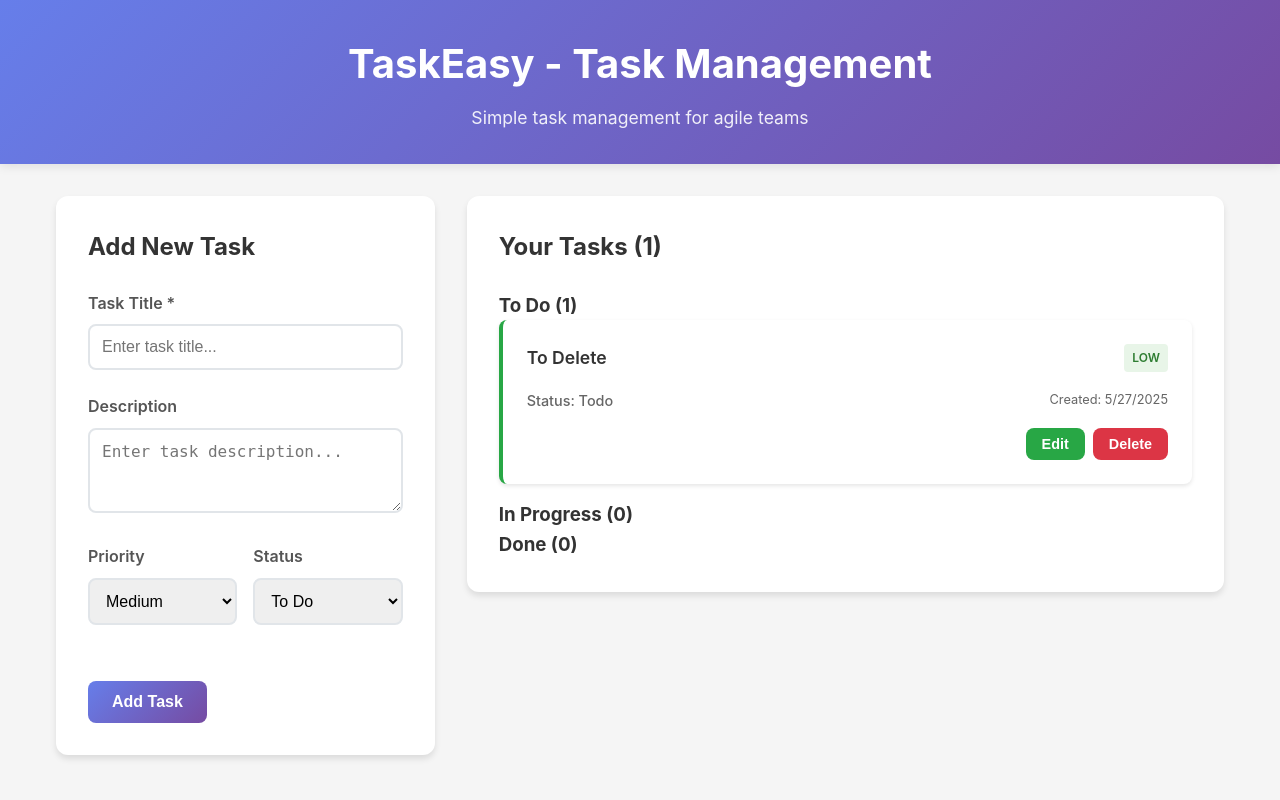
Test: App Integration Tests › bisa menghapus task
Step 1. Click the button "Delete" → point(1130, 444), box [1093,428,1168,460]
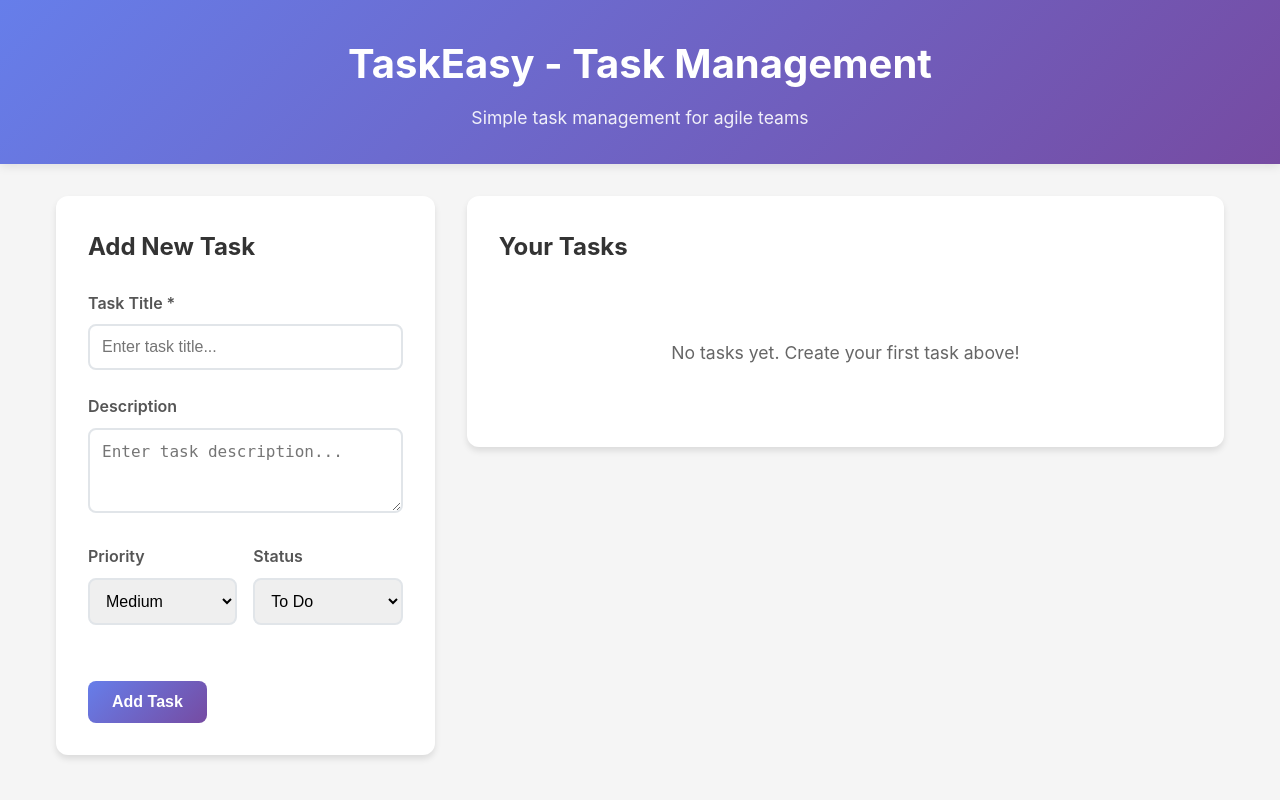
Expected: the heading "To Delete" is gone
